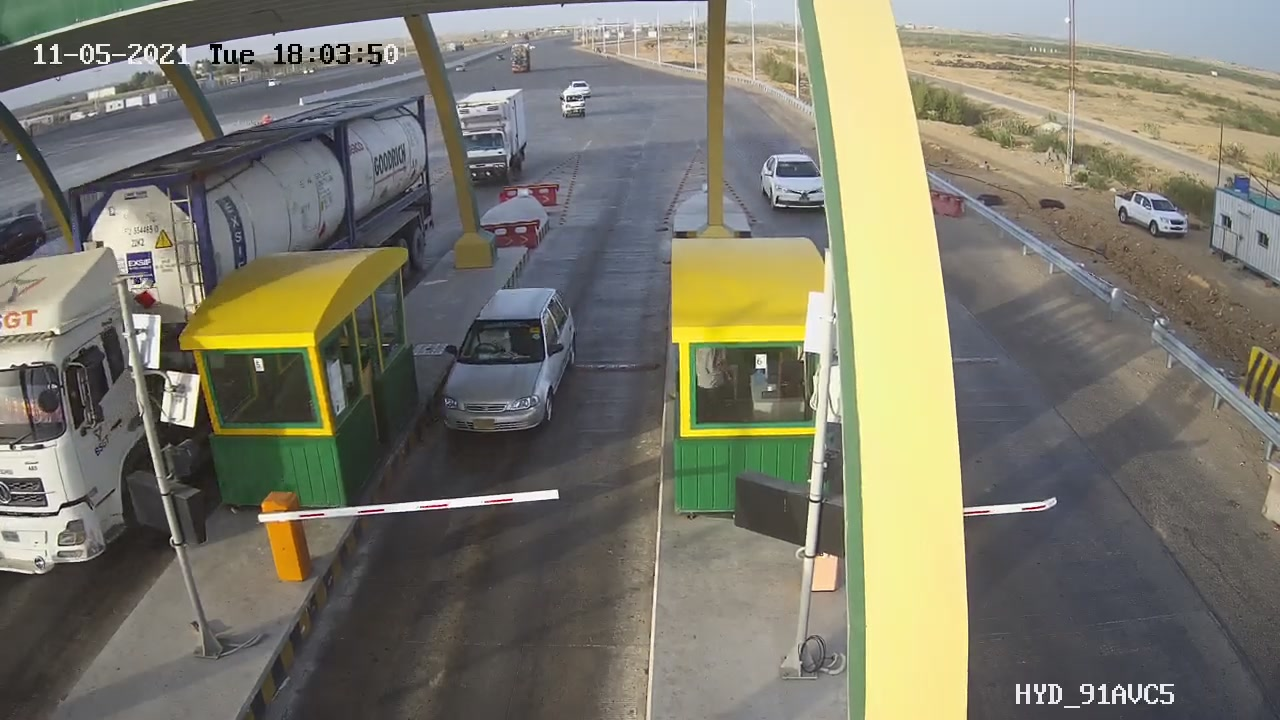F1: (412, 268, 599, 453)
